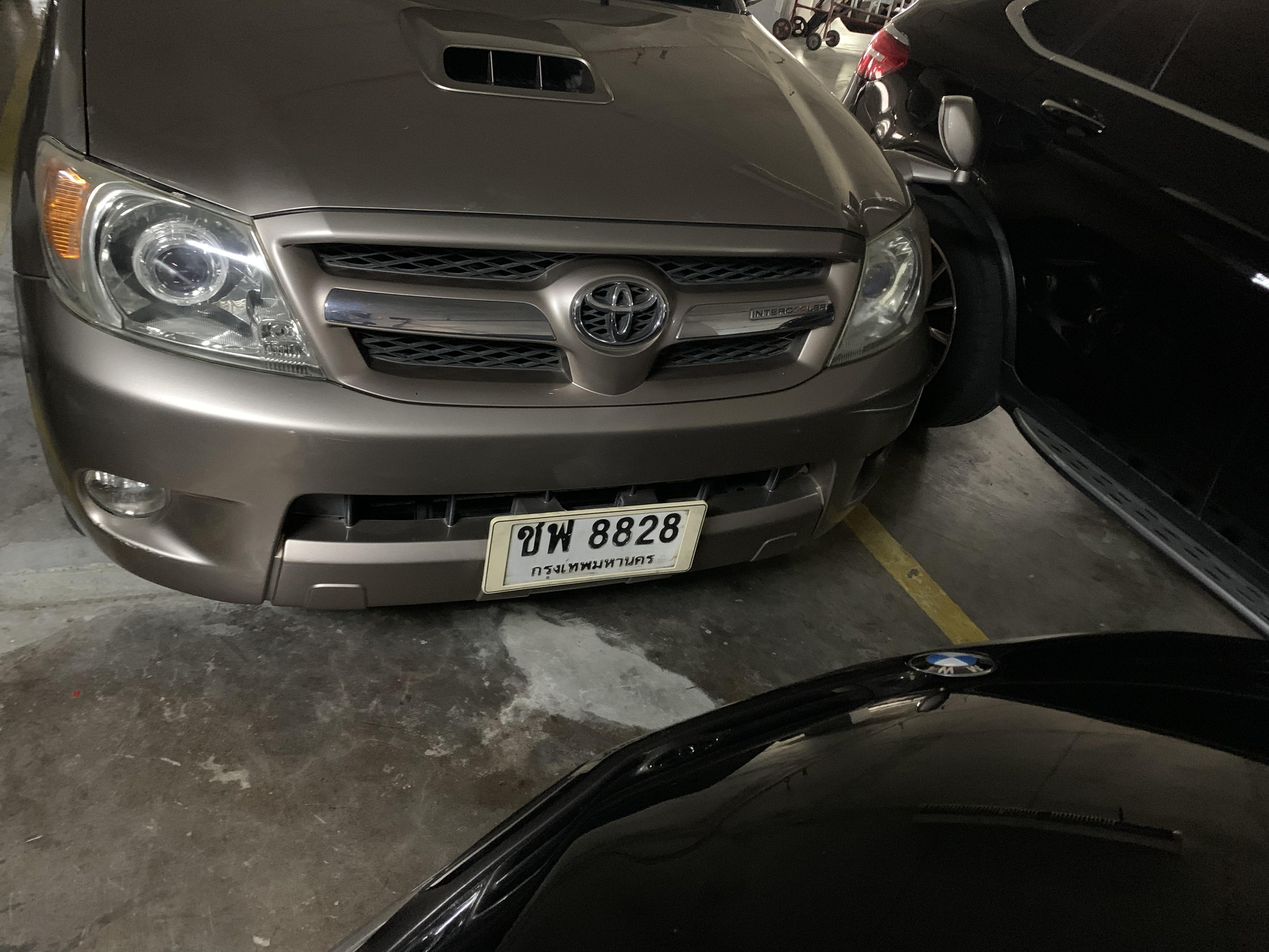license-plate: (482, 501, 710, 602)
